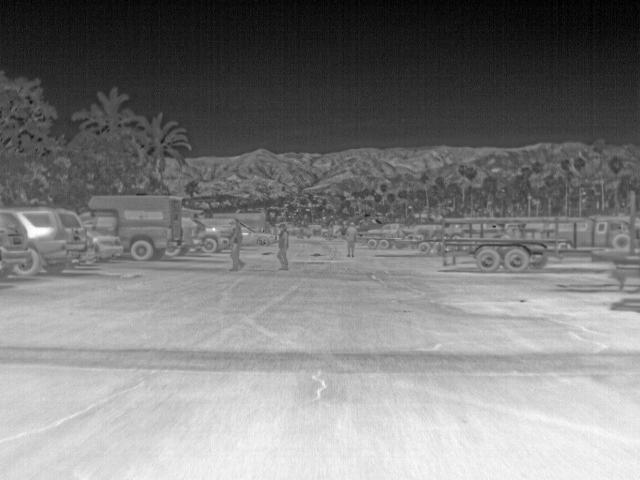car: (2, 208, 92, 275), (1, 210, 33, 281), (88, 229, 126, 263), (193, 218, 228, 254), (242, 224, 278, 246), (366, 220, 406, 234)
person: (228, 220, 250, 272), (277, 222, 292, 271), (344, 222, 359, 256)
